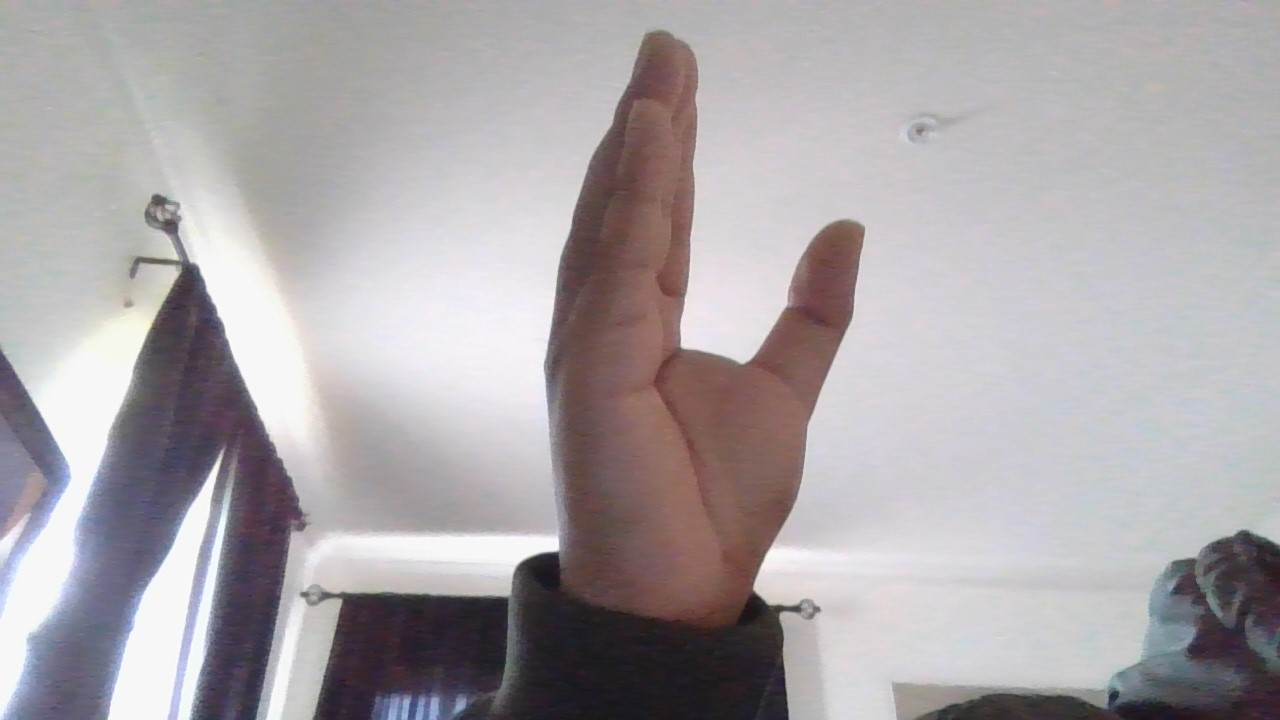j: (461, 21, 887, 684)
